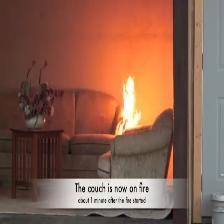fire: (115, 73, 148, 124)
